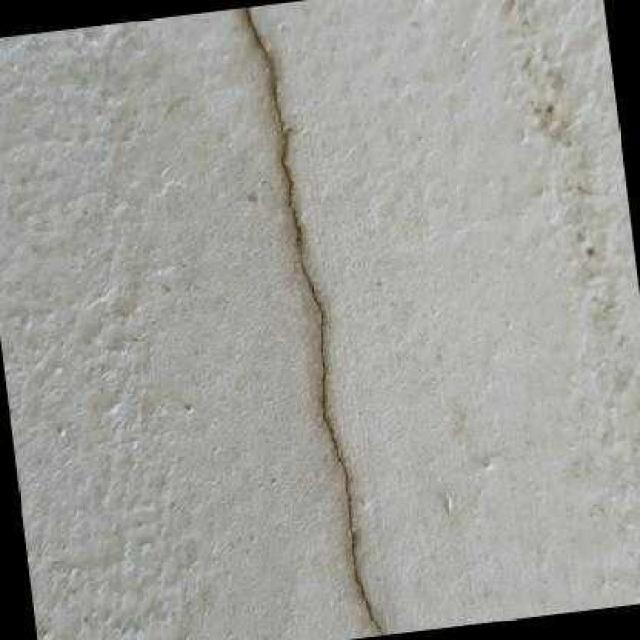D00: (245, 7, 384, 635)
